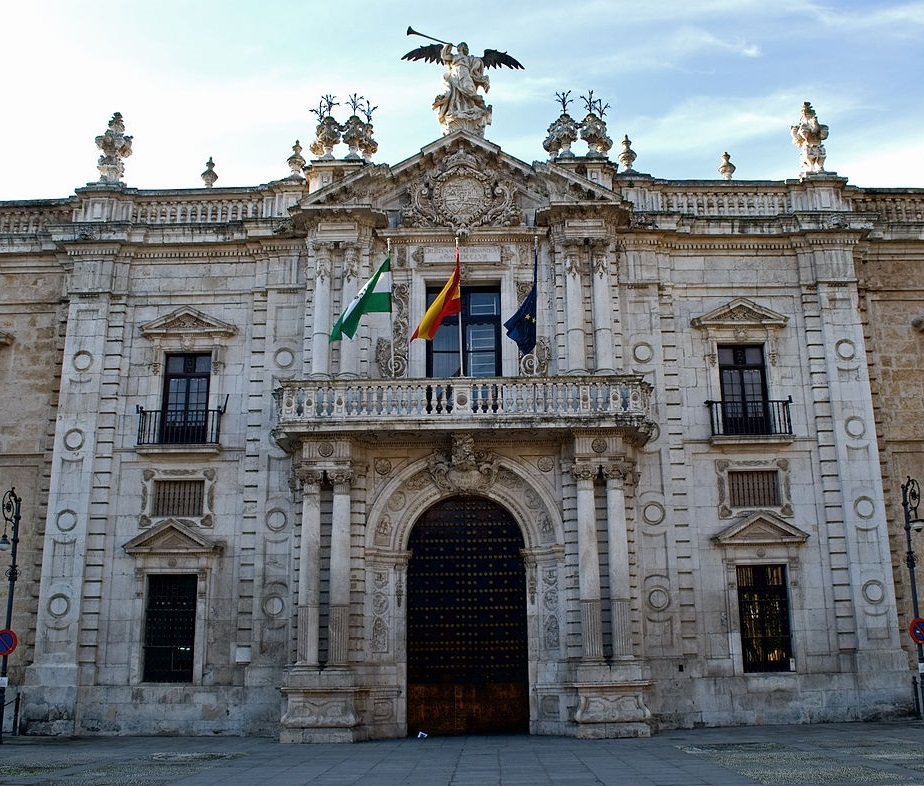arco-medio-punto: (395, 484, 533, 578)
fronton: (686, 291, 796, 338), (116, 516, 221, 562), (709, 509, 817, 548), (136, 303, 243, 339)
fronton-partido: (293, 124, 626, 223)
vano-adintelado: (405, 263, 518, 416), (718, 553, 807, 678), (127, 564, 213, 689), (699, 334, 791, 443), (147, 344, 227, 451)
